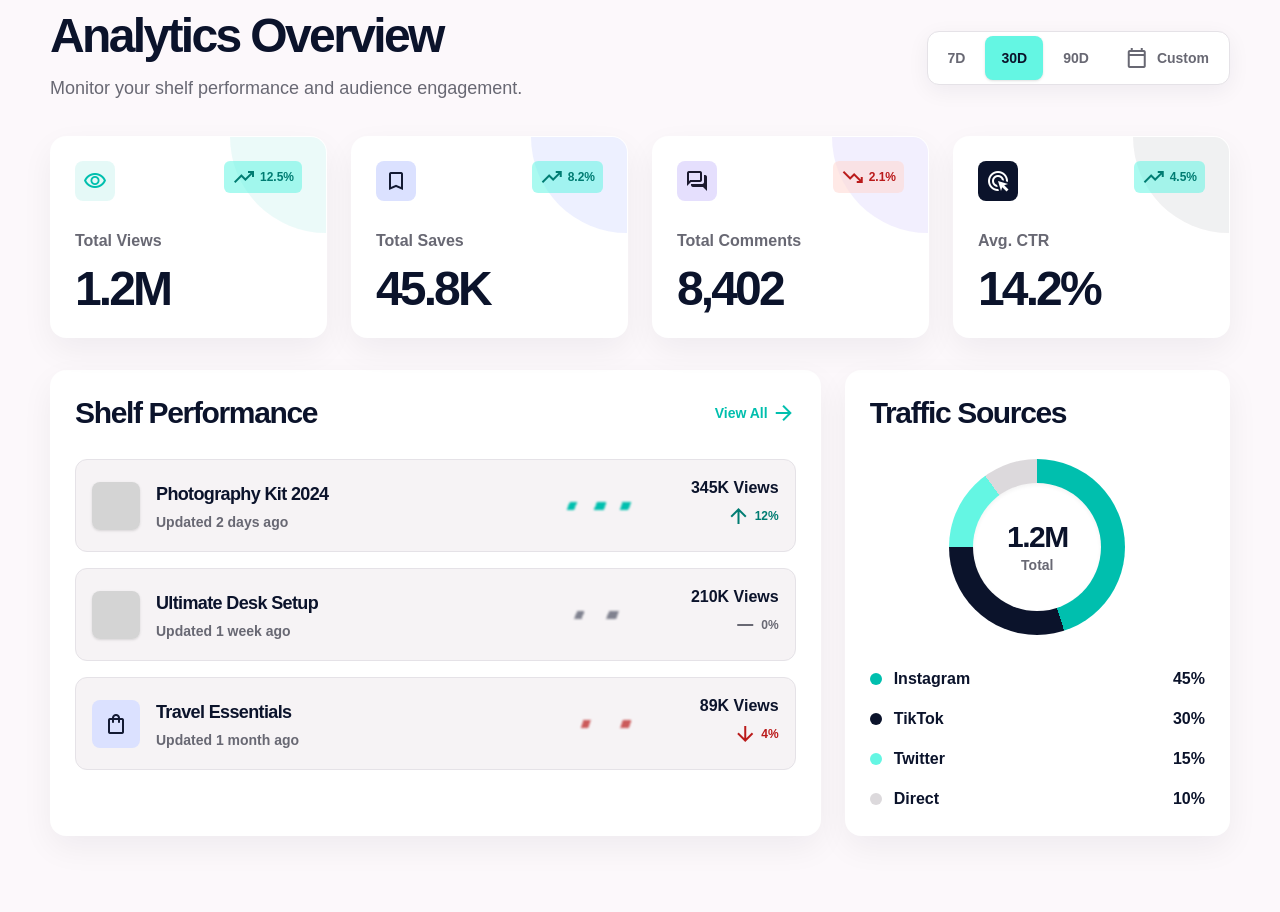
Test: Studio analytics, comments, and settings tools › switches analytics ranges including custom
The width and height of the screenshot is (1280, 912).
Expected: the text "Monitor your shelf performance and audience engagement." is shown, [50,72,522,104]
Expected: the button "7D" is shown, [932,36,982,80]
What coordinates should you click on to do the following:
click the button "90D"
I would click on:
 (1076, 58)
Its box is [1047,36,1105,80].
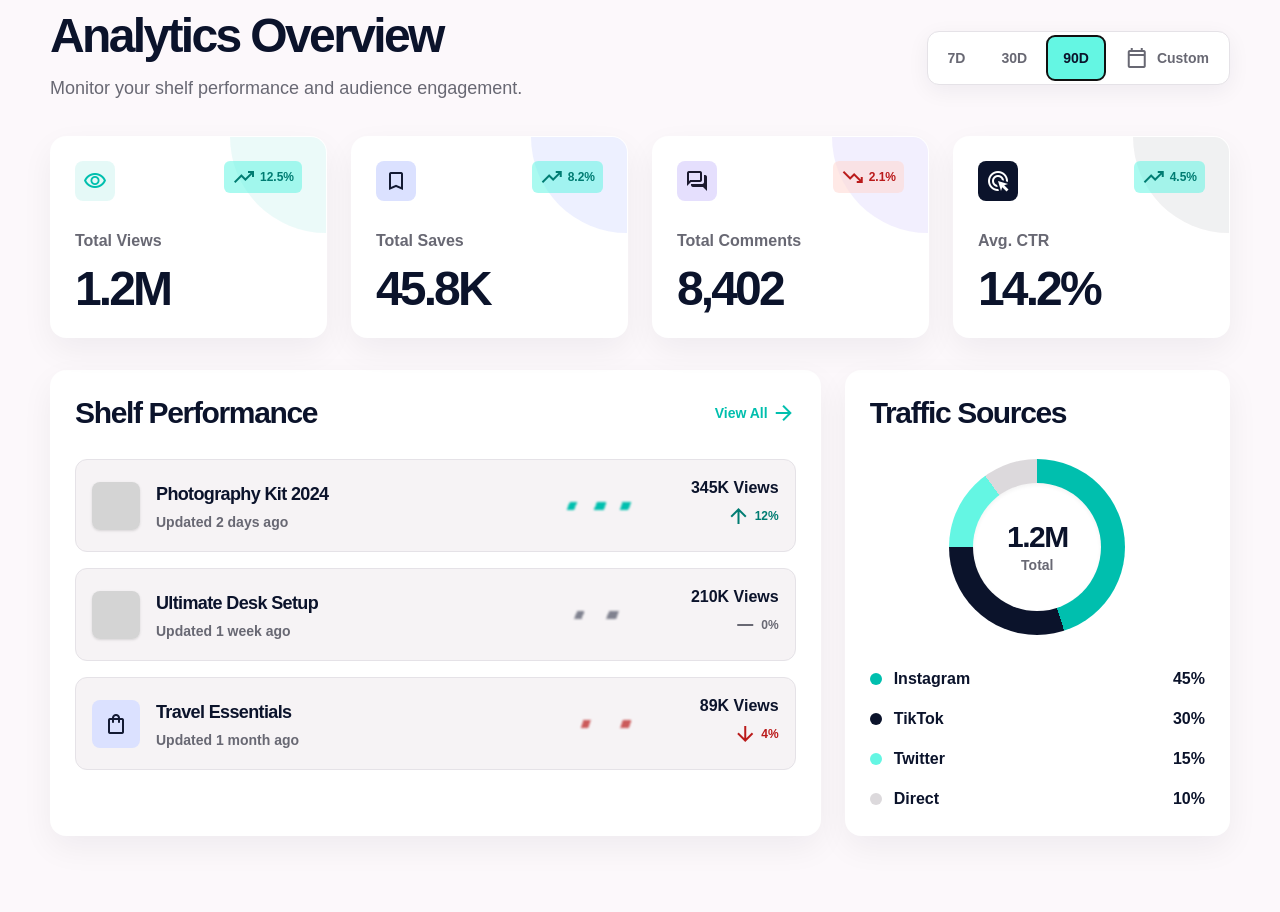
Expected: the button "90D" is pressed, [1047,36,1105,80]
What coordinates should you click on to do the following:
click the button "Custom"
I would click on:
 (1167, 58)
Its box is [1109,36,1225,80].
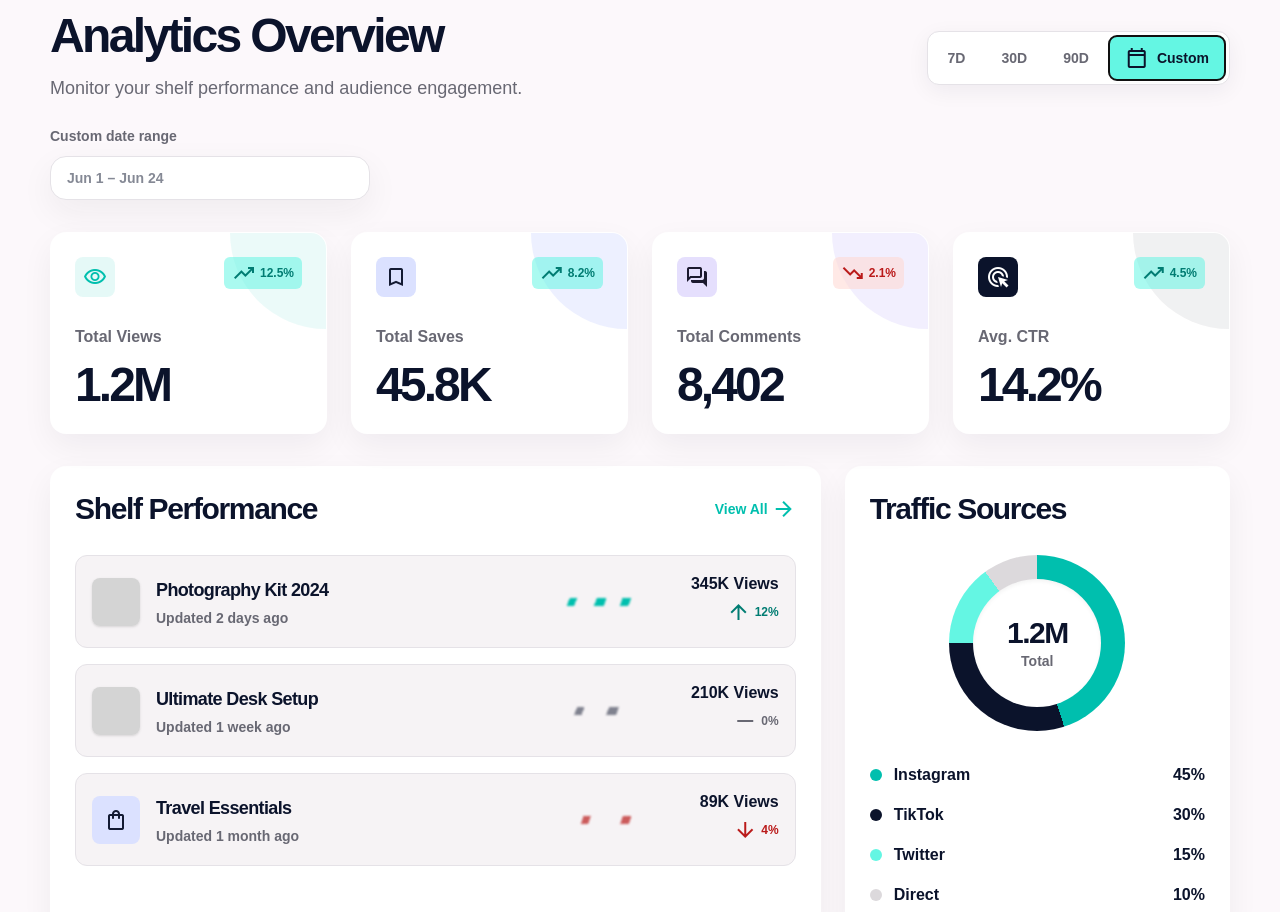
Expected: the text "Instagram" is shown, [870,763,970,787]
Expected: the field labelled "Custom date range" is shown, [50,156,370,200]
